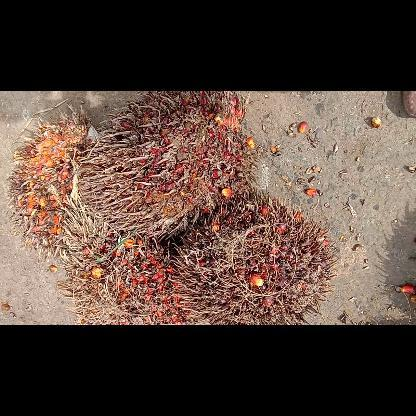Terlalu masak: (77, 91, 261, 241), (52, 150, 210, 324), (169, 188, 340, 324), (7, 103, 91, 263)
